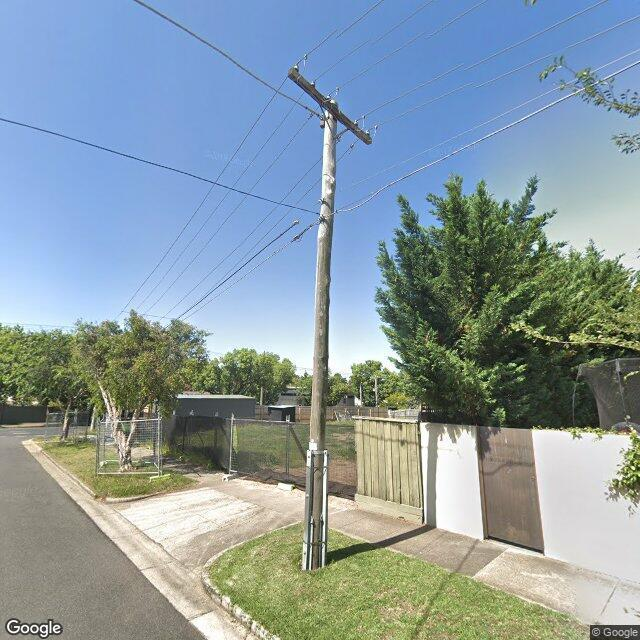crossarm: (287, 64, 378, 146)
timber-pole: (300, 99, 338, 570)
